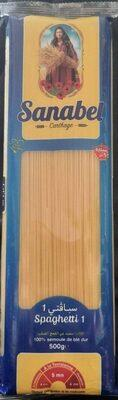Spaghetti: (6, 2, 116, 400)
